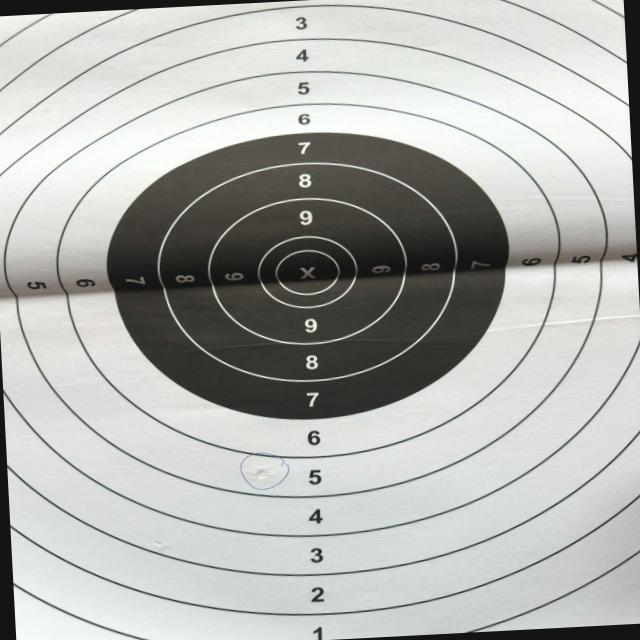bullet: (256, 467, 268, 479)
target: (0, 0, 640, 640)
